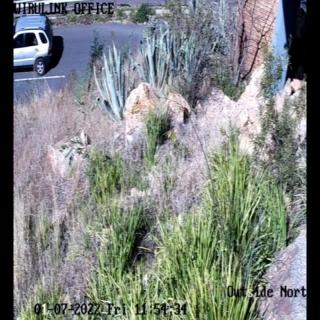car: (13, 14, 53, 74)
